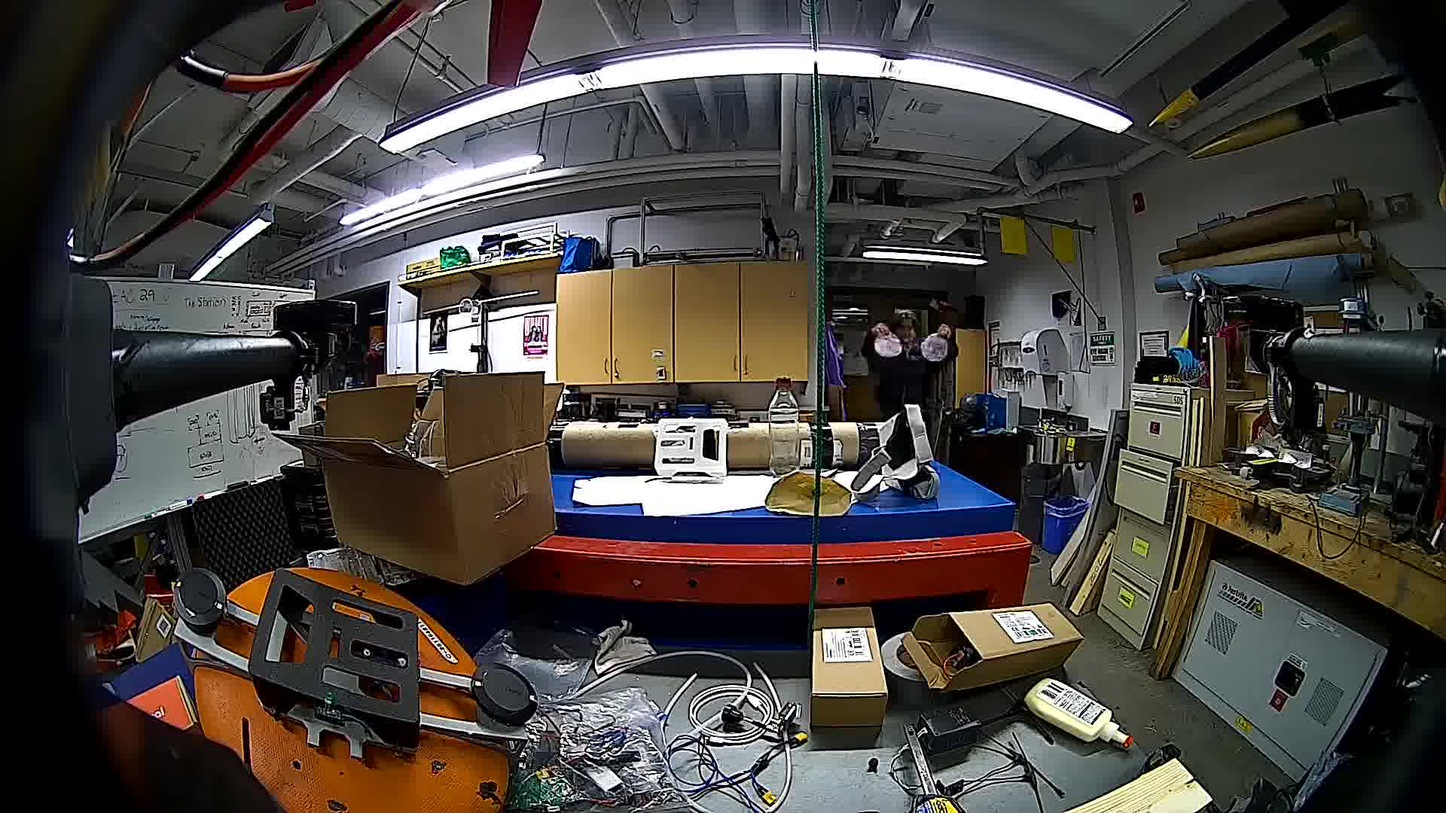Target: (872, 325, 902, 359), (920, 333, 950, 363)
